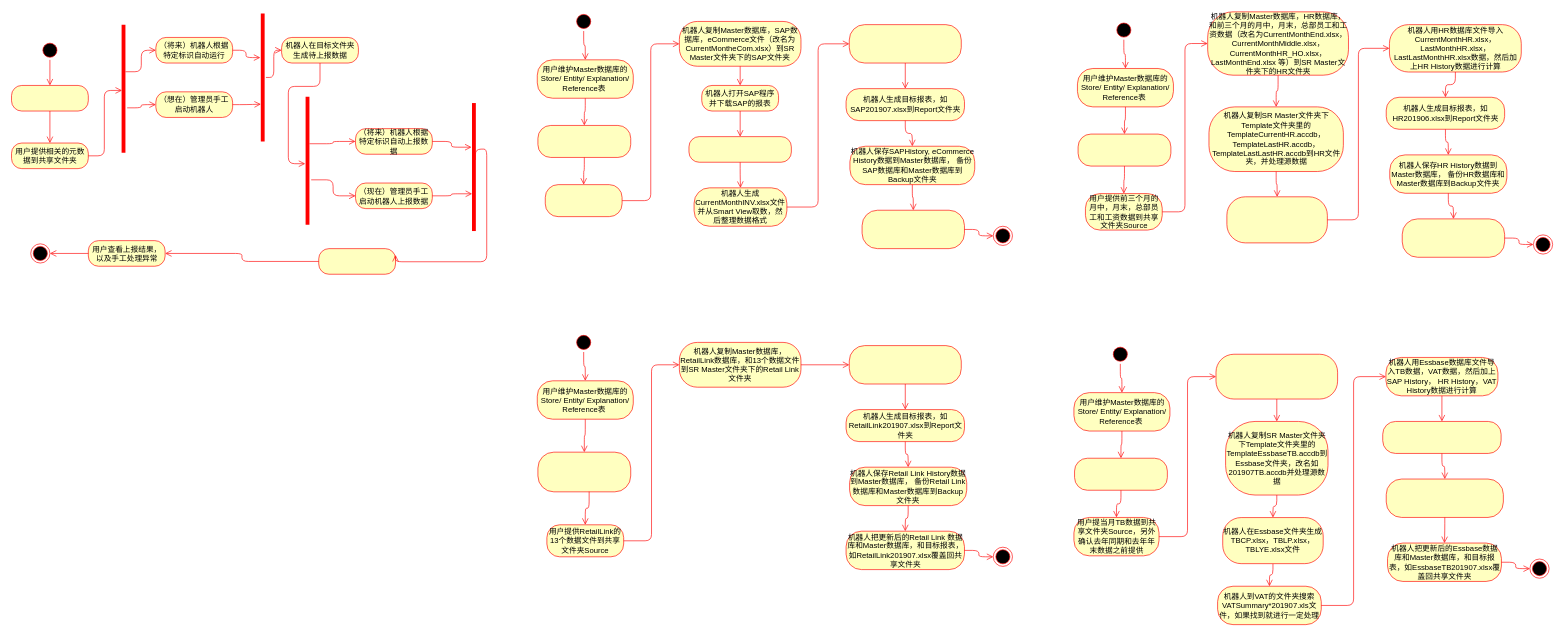
Image size: 1564x636. Some labels were removed from this diagram. Here are the shapes that lost their labels. From the top down, the centre of each, then its label:
At (x=905, y=43): "机器人用SAP数据库文件导入eCommerce，SAP，Inventory数据，然后加上SAP History数据进行计算".
At (x=49, y=98): "用户在共享文件夹 维护各个基础数据库".
At (x=584, y=141): "用户在共享文件夹维护SAP数据库的报表项目类别和对照表".
At (x=739, y=149): "机器人合并SAP的报表生成CurrentMonthSAP.xlsx文件".
At (x=1124, y=149): "用户在共享文件夹维护数据库的工资级别对照表".
At (x=583, y=200): "用户提供eCommerce数据到共享文件夹Source".
At (x=1276, y=219): "机器人在HR文件夹生成CurrentMonthHR.xlsx，LastMonthHR.xlsx，LastLastMonthHR.xlsx文件".
At (x=912, y=229): "机器人把更新后的SAP数据库和Master数据库，和目标报表，如SAP201907.xlsx覆盖回共享文件夹".
At (x=1453, y=237): "机器人把更新后的HR数据库和Master数据库，和目标报表，如HR201906.xlsx覆盖回共享文件夹".
At (x=357, y=261): "上报结果保存到目标文件夹".
At (x=905, y=364): "机器人用Retail Link数据库文件导入13个数据文件，然后加上Retail Link History数据进行计算".
At (x=1276, y=376): "机器人复制Master数据库，Essbase数据库，TB文件（改名为CurrentMonthTB.xlsx）到SR Master文件夹下的Essbase文件夹".
At (x=1441, y=437): "机器人生成目标报表，如EssbaseTB201907.xlsx到Report文件夹".
At (x=584, y=472): "用户在共享文件夹维护Retail Link数据库的报表项目类别和对照表 ，和单位转换关系表".
At (x=1120, y=474): "用户在共享文件夹维护EssbaseTB数据库的报表项目类别和对照表".
At (x=1444, y=497): "机器人备份Essbase数据库和Master数据库到Backup文件夹".
